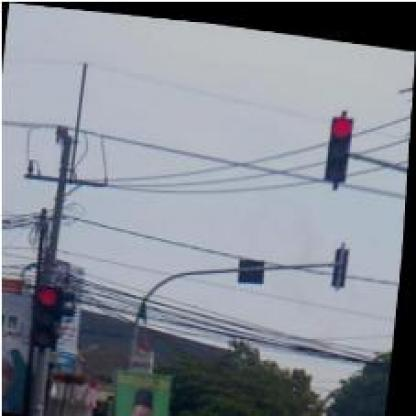red: (324, 104, 358, 178), (34, 281, 65, 349)
